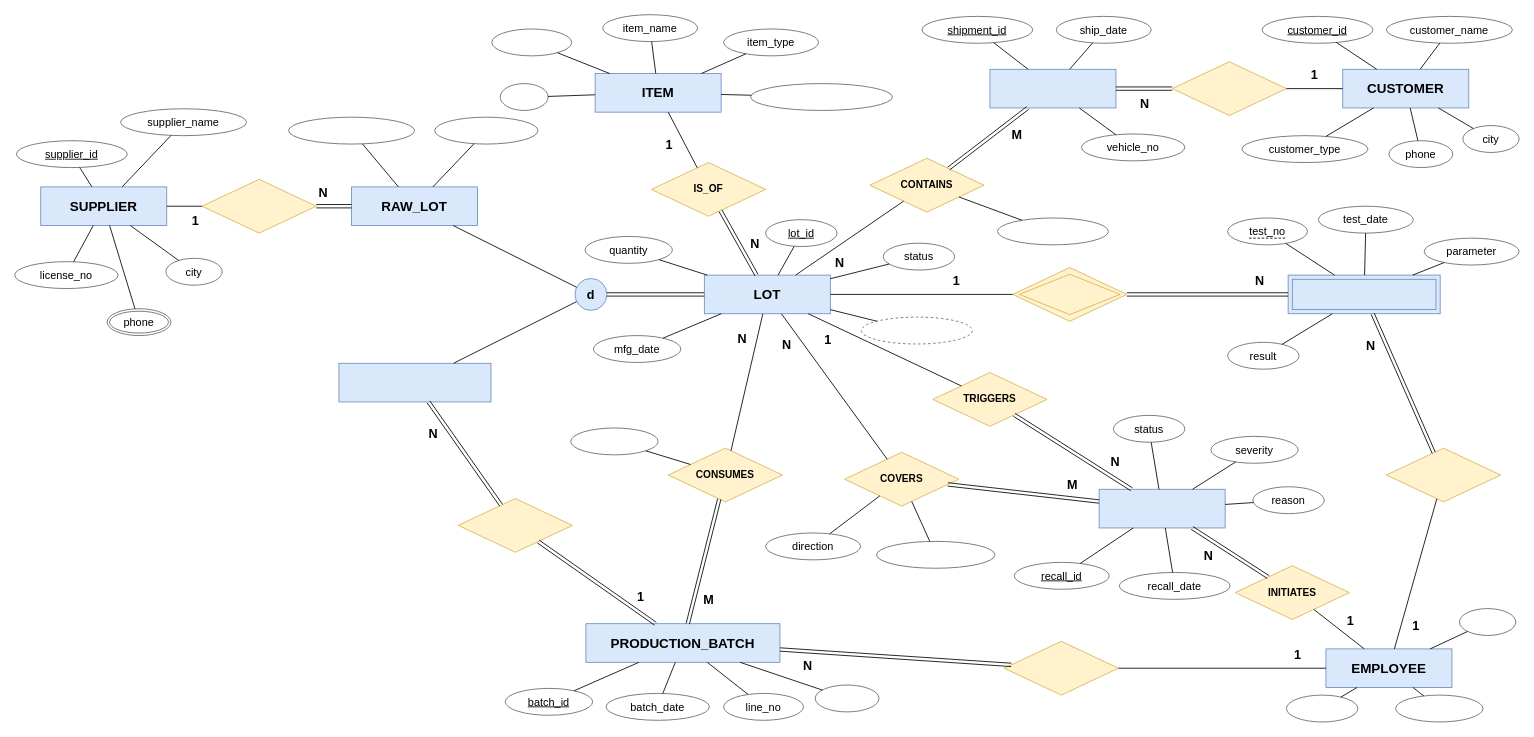
This 1534x737 diagram has some shape labels left out. The centre of each missing label's shape, as x and y in pixels:
action_taken: [935,554]
CONDUCTS: [1443,474]
emp_id: [1322,708]
emp_name: [1439,708]
expiry_date: [916,330]
HAS_TEST: [1069,294]
invoice_no: [486,130]
item_id: [531,42]
PRODUCED_LOT: [414,382]
PRODUCES: [514,525]
qty_shipped: [1052,231]
qty_used: [614,441]
QUALITY_TEST: [1363,294]
RECALL: [1161,508]
received_date: [351,130]
RECEIVES: [1228,88]
role: [1487,621]
shelf_life_days: [821,96]
shift: [846,698]
SHIPMENT: [1052,88]
SUPERVISES: [1060,667]
SUPPLIES: [258,205]
uom: [523,96]
